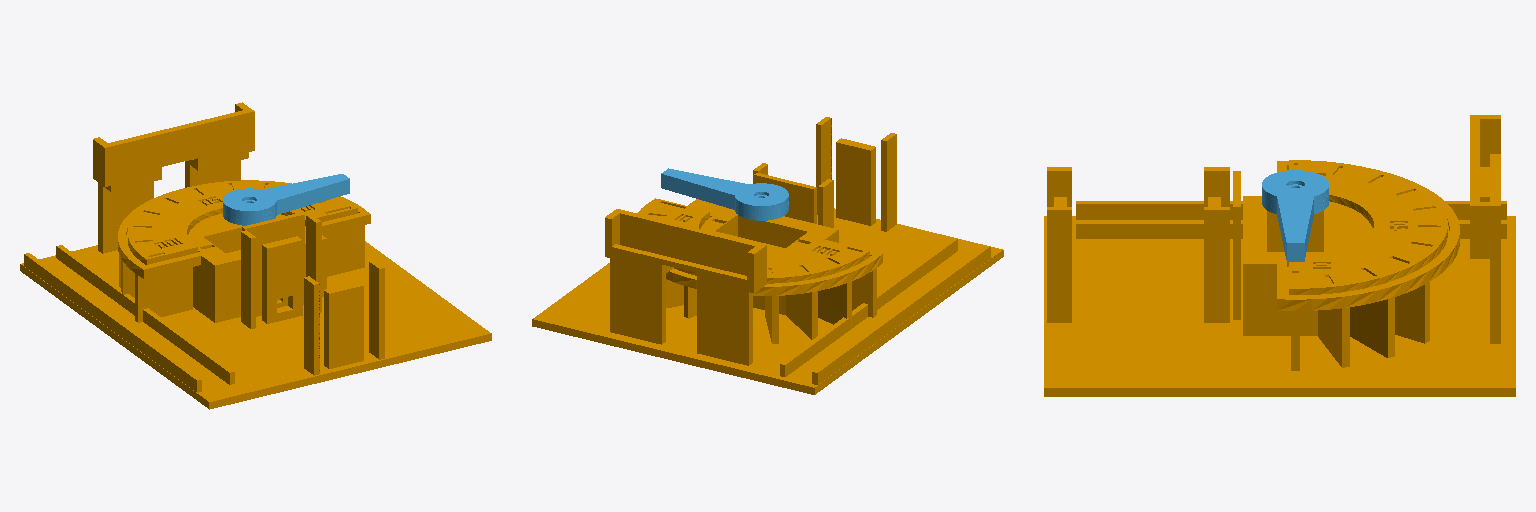
robot.urdf — gauge:
<?xml version="1.0"?>
<!--
  robot: gauge | consumers: MuJoCo (sfab-bench world)
  units: meters, kilograms, radians
  root: base
  links:
  - base | printed base plus dial | visual meshes, one collision box
  - flag | horn plus flag | visual meshes, one collision box
  joints:
  - servo | revolute | parent base | child flag
    origin xyz 0 0 0 | axis 0 0 1
    limits 0 .. pi rad
    the flag's collision box is above the base box for the whole turn:
    MuJoCo does not filter contacts between a joint's child and a
    parent welded to the world
  masses: flag link is the solid flag plus the horn at 1240 kg/m3.
  The base link is 15% of the solid base plus the solid dial.
  Both are assumed until M10. Inertia is about the centre of mass.
-->
<robot name="gauge">
  <mujoco>
    <compiler fusestatic="false" discardvisual="false"/>
  </mujoco>
  <link name="base">
    <inertial>
      <origin xyz="-0.0007381878 0.006833675 0.01236394" rpy="0 0 0"/>
      <mass value="0.01513040"/>
      <inertia ixx="1.129046e-5" ixy="-8.907313e-8" ixz="-8.871960e-8" iyy="8.949768e-6" iyz="-1.307020e-6" izz="1.750418e-5"/>
    </inertial>
    <visual>
      <origin xyz="0 0 0" rpy="0 0 0"/>
      <geometry>
        <mesh filename="meshes/base.stl" scale="0.001 0.001 0.001"/>
      </geometry>
    </visual>
    <visual>
      <origin xyz="0 0 0.0202" rpy="0 0 0"/>
      <geometry>
        <mesh filename="meshes/dial.stl" scale="0.001 0.001 0.001"/>
      </geometry>
    </visual>
    <collision>
      <origin xyz="0 -0.0037 0.013" rpy="0 0 0"/>
      <geometry>
        <box size="0.048 0.0557 0.013"/>
      </geometry>
    </collision>
  </link>
  <link name="flag">
    <inertial>
      <origin xyz="0.008680005 0 0.03064496" rpy="0 0 0"/>
      <mass value="0.002051646"/>
      <inertia ixx="2.646026e-8" ixy="0" ixz="-5.603454e-10" iyy="2.546021e-7" iyz="0" izz="2.728465e-7"/>
    </inertial>
    <visual>
      <origin xyz="0 0 0.0029" rpy="0 0 0"/>
      <geometry>
        <mesh filename="meshes/horn.stl" scale="0.001 0.001 0.001"/>
      </geometry>
    </visual>
    <visual>
      <origin xyz="0 0 0.0283" rpy="0 0 0"/>
      <geometry>
        <mesh filename="meshes/flag.stl" scale="0.001 0.001 0.001"/>
      </geometry>
    </visual>
    <collision>
      <origin xyz="0.0165 0 0.030675" rpy="0 0 0"/>
      <geometry>
        <box size="0.0165 0.002375 0.002375"/>
      </geometry>
    </collision>
  </link>
  <joint name="servo" type="revolute">
    <parent link="base"/>
    <child link="flag"/>
    <origin xyz="0 0 0" rpy="0 0 0"/>
    <axis xyz="0 0 1"/>
    <limit lower="0" upper="3.141592653589793" effort="0.22" velocity="10.472"/>
    <dynamics damping="0.001" friction="0"/>
  </joint>
</robot>

--- What the picture shows (computed from the rendered views, not written in the file) ---
Views: 3 orthographic renders of the robot side by side, from view 1: azimuth 30°, elevation 25°; view 2: azimuth 150°, elevation 25°; view 3: azimuth 270°, elevation 25°.
Robot: gauge — 2 links, 1 joints (1 revolute); root link base; default pose: all joints at 0.
Visible links, largest first — view 1: base, flag; view 2: base, flag; view 3: base, flag.
Link boxes in pixels (bbox=[...]): base: bbox=[20, 102, 491, 409]; flag: bbox=[223, 174, 349, 225]; base: bbox=[532, 117, 1003, 394]; flag: bbox=[661, 168, 788, 220]; base: bbox=[1044, 115, 1515, 396]; flag: bbox=[1262, 170, 1328, 261].
Size in the robot's own frame: 0.096 by 0.1114 by 0.0392 metres.
4 mesh visuals loaded from 4 distinct referenced files (4 binary STL).
